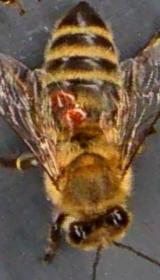varroa_mite: (42, 84, 82, 117), (61, 104, 97, 128)
